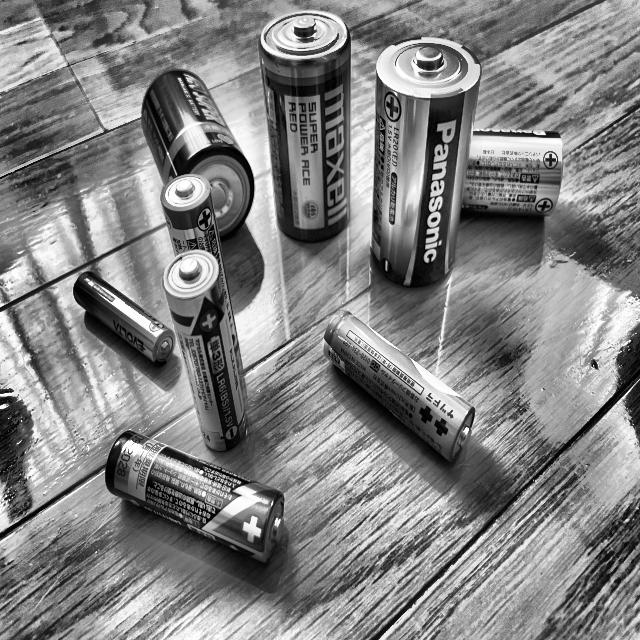drycell: (101, 426, 289, 571), (70, 259, 181, 370)
